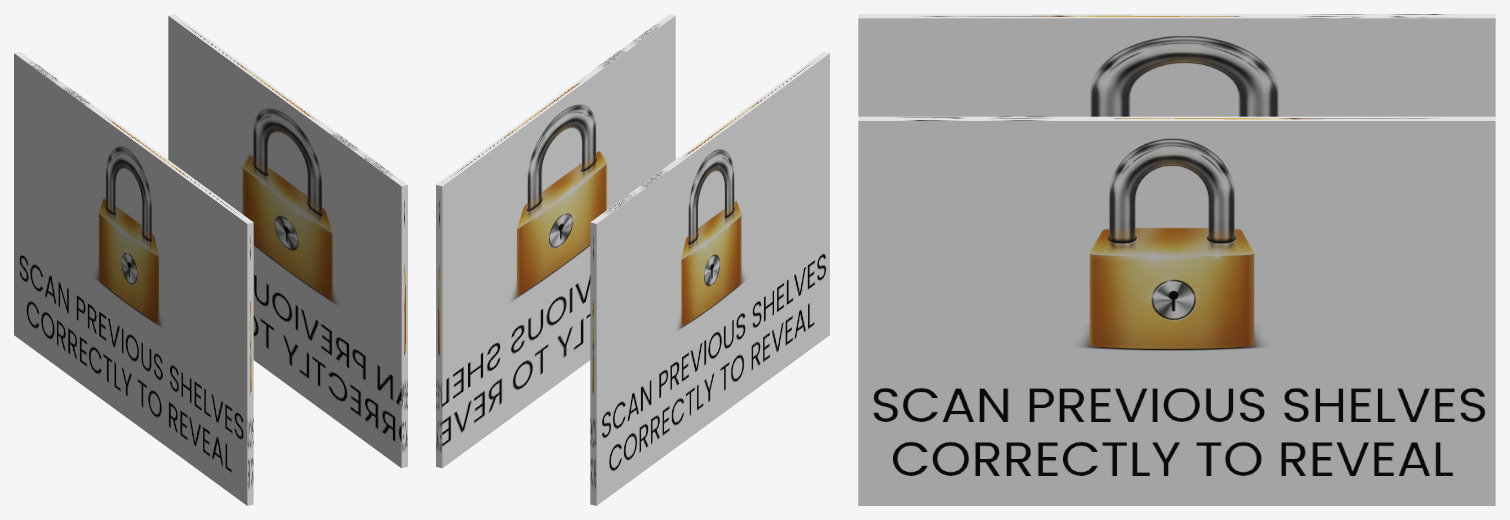
Rendered from curtain.glb.
The picture shows the model from 3 angles, left to right: view 1: azimuth 30°, elevation 25°; view 2: azimuth 150°, elevation 25°; view 3: azimuth 270°, elevation 25°; orthographic projection. The views are drawn at different scales.
Visible parts, largest first — view 1: Cube.001, Cube.007; view 2: Cube.001, Cube.007; view 3: Cube.007, Cube.001.
Part boxes in pixels (x1,y1,x2,y2): Cube.001: (14, 51, 253, 505); Cube.007: (168, 14, 407, 468); Cube.001: (590, 51, 829, 505); Cube.007: (436, 14, 675, 468); Cube.007: (858, 116, 1495, 505); Cube.001: (858, 14, 1495, 116).
Size of the model in its own units: 0.5006 by 0.84 by 1.26.
2 materials, 2 textured.
